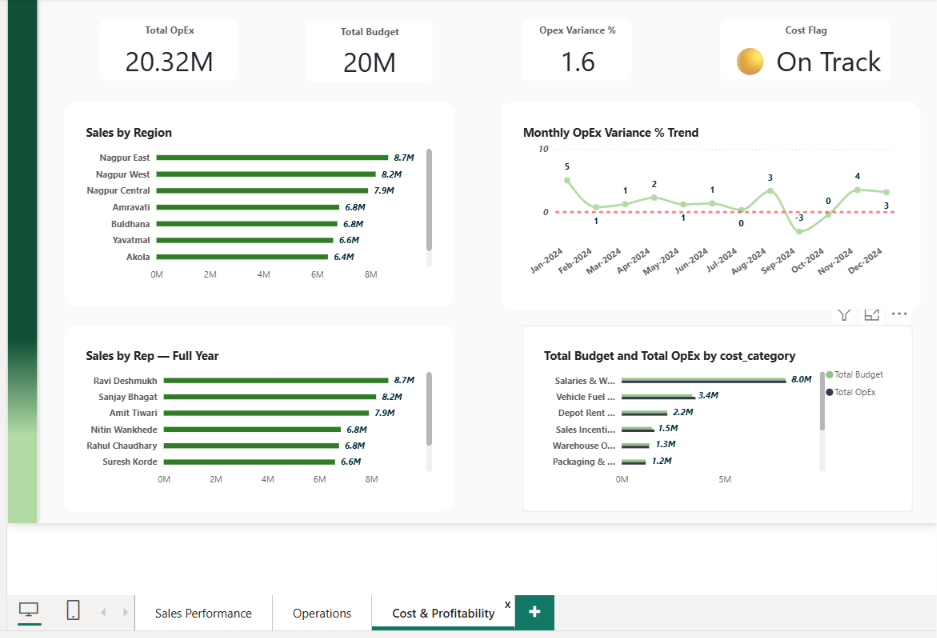

What the dashboard file says about the page in this screenshot:
{"tool":"powerbi","page":{"name":"Cost & Profitability","canvas":[1280,720],"ordinal":2},"visuals":[{"type":"clusteredBarChart","fields":{"Category":["public cost_budget_actual.cost_category"],"Y":["public cost_budget_actual.Total Budget","public cost_budget_actual.Total OpEx"]},"box":[706.7,448.7,535.2,255.2],"z":0},{"type":"lineChart","title":"Monthly OpEx Variance % Trend","fields":{"Category":["public cost_budget_actual.month_name"],"Y":["public cost_budget_actual.Opex Variance %"]},"box":[677.9,142.7,575,284],"z":1000},{"type":"cardVisual","fields":{"Data":["public cost_budget_actual.Total OpEx"]},"box":[98.8,0,247,142.7],"z":3000},{"type":"cardVisual","fields":{"Data":["public cost_budget_actual.Total Budget"]},"box":[380.1,1.4,233.3,142.7],"z":4000},{"type":"cardVisual","fields":{"Data":["public cost_budget_actual.Opex Variance %"]},"box":[677.9,0,208.6,142.7],"z":5000},{"type":"clusteredBarChart","title":" Sales by Rep — Full Year","fields":{"Category":["public vw_sales_dashboard.rep_name"],"Y":["public vw_sales_dashboard.Total Net Sales (Txn)"]},"box":[78.2,448.7,535.2,255.2],"z":5001},{"type":"clusteredBarChart","title":"Sales by Region","fields":{"Category":["public vw_sales_dashboard.region"],"Y":["public vw_sales_dashboard.Total Net Sales (Txn)"]},"box":[78.2,142.7,535.2,279.9],"z":5002},{"type":"cardVisual","fields":{"Data":["public cost_budget_actual.Cost Flag"]},"box":[949.6,0,292.3,142.7],"z":5003},{"type":"actionButton","box":[63.1,31.6,100.2,39.8],"z":5004},{"type":"actionButton","box":[63.1,52.1,100.2,39.8],"z":5005}]}

Visuals, with their boxes on the page's 1280x720 design canvas (x1, y1, x2, y2). These are canvas units, not pixel positions in the 937x638 screenshot, which may show the page scaled, cropped or inside an application window:
clusteredBarChart - public cost_budget_actual.cost_category x public cost_budget_actual.Total Budget: (left=707, top=449, right=1242, bottom=704)
"Monthly OpEx Variance % Trend" lineChart: (left=678, top=143, right=1253, bottom=427)
cardVisual - public cost_budget_actual.Total OpEx: (left=99, top=0, right=346, bottom=143)
cardVisual - public cost_budget_actual.Total Budget: (left=380, top=1, right=613, bottom=144)
cardVisual - public cost_budget_actual.Opex Variance %: (left=678, top=0, right=886, bottom=143)
" Sales by Rep — Full Year" clusteredBarChart: (left=78, top=449, right=613, bottom=704)
"Sales by Region" clusteredBarChart: (left=78, top=143, right=613, bottom=423)
cardVisual - public cost_budget_actual.Cost Flag: (left=950, top=0, right=1242, bottom=143)
actionButton: (left=63, top=32, right=163, bottom=71)
actionButton: (left=63, top=52, right=163, bottom=92)
